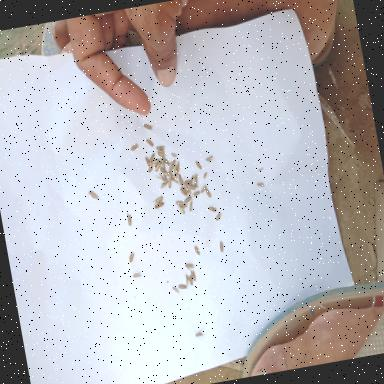pbw: (154, 172, 166, 184), (152, 195, 164, 206), (144, 123, 156, 132), (184, 195, 196, 204), (194, 176, 201, 191), (154, 200, 164, 210), (214, 212, 224, 222), (159, 156, 169, 166), (146, 138, 155, 149), (126, 213, 133, 227), (128, 251, 136, 263), (150, 158, 162, 166), (182, 181, 189, 194), (171, 177, 181, 186), (178, 206, 186, 216), (148, 153, 156, 163), (166, 159, 176, 167), (168, 162, 176, 172), (188, 182, 196, 192), (185, 262, 195, 270), (130, 143, 140, 151), (154, 162, 162, 172), (190, 269, 196, 282), (205, 188, 212, 199), (160, 158, 166, 170), (176, 160, 182, 172), (188, 274, 194, 286), (182, 185, 188, 197), (167, 177, 173, 189), (194, 330, 203, 338), (206, 156, 214, 165), (145, 155, 151, 167), (218, 240, 224, 252), (195, 160, 202, 170), (208, 206, 218, 213), (188, 201, 194, 212), (194, 244, 200, 255), (160, 182, 168, 190), (158, 166, 166, 174), (172, 286, 180, 294), (200, 185, 207, 194), (184, 180, 194, 186), (178, 284, 188, 290), (173, 164, 178, 176), (185, 274, 190, 286), (163, 172, 173, 178), (156, 146, 166, 152), (132, 272, 142, 278), (171, 152, 178, 160), (163, 173, 168, 184), (187, 184, 192, 195), (192, 192, 201, 198), (170, 174, 178, 180), (148, 165, 154, 173), (256, 182, 264, 188), (158, 152, 166, 158), (190, 174, 198, 180), (175, 201, 184, 206), (203, 172, 208, 180), (156, 150, 164, 154), (180, 204, 188, 208), (258, 168, 264, 172), (190, 184, 195, 188)
